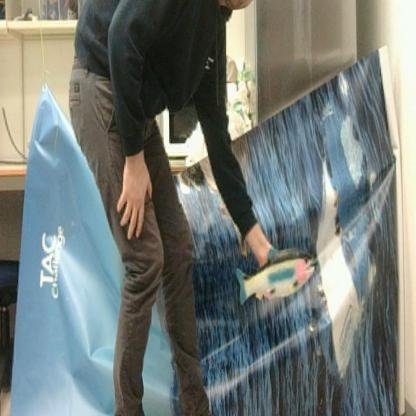rubberfish: (236, 248, 316, 304)
